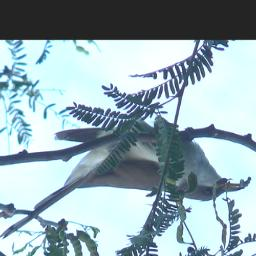Cuckoo: (0, 113, 249, 242)
